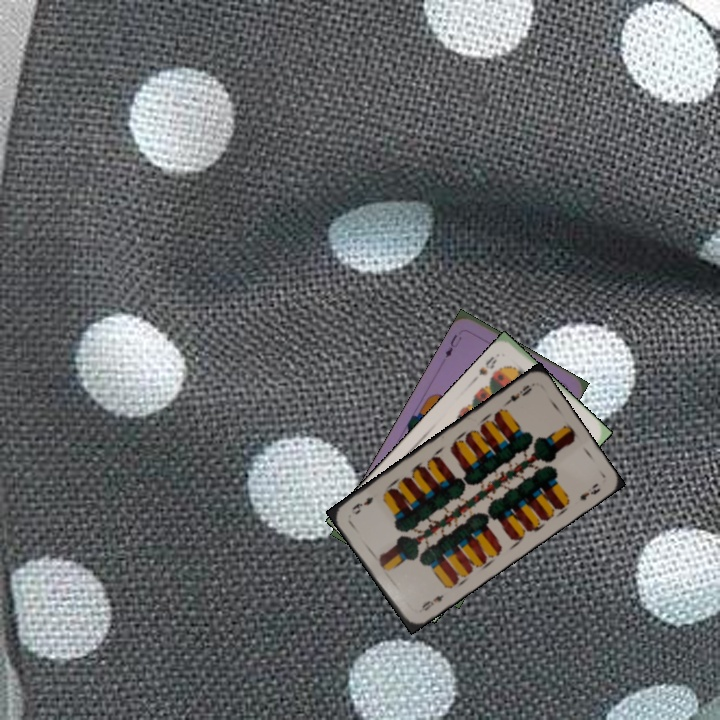E9: (500, 381, 535, 409), (415, 590, 446, 616)
EU: (441, 330, 464, 360)
S8: (475, 352, 500, 378)
